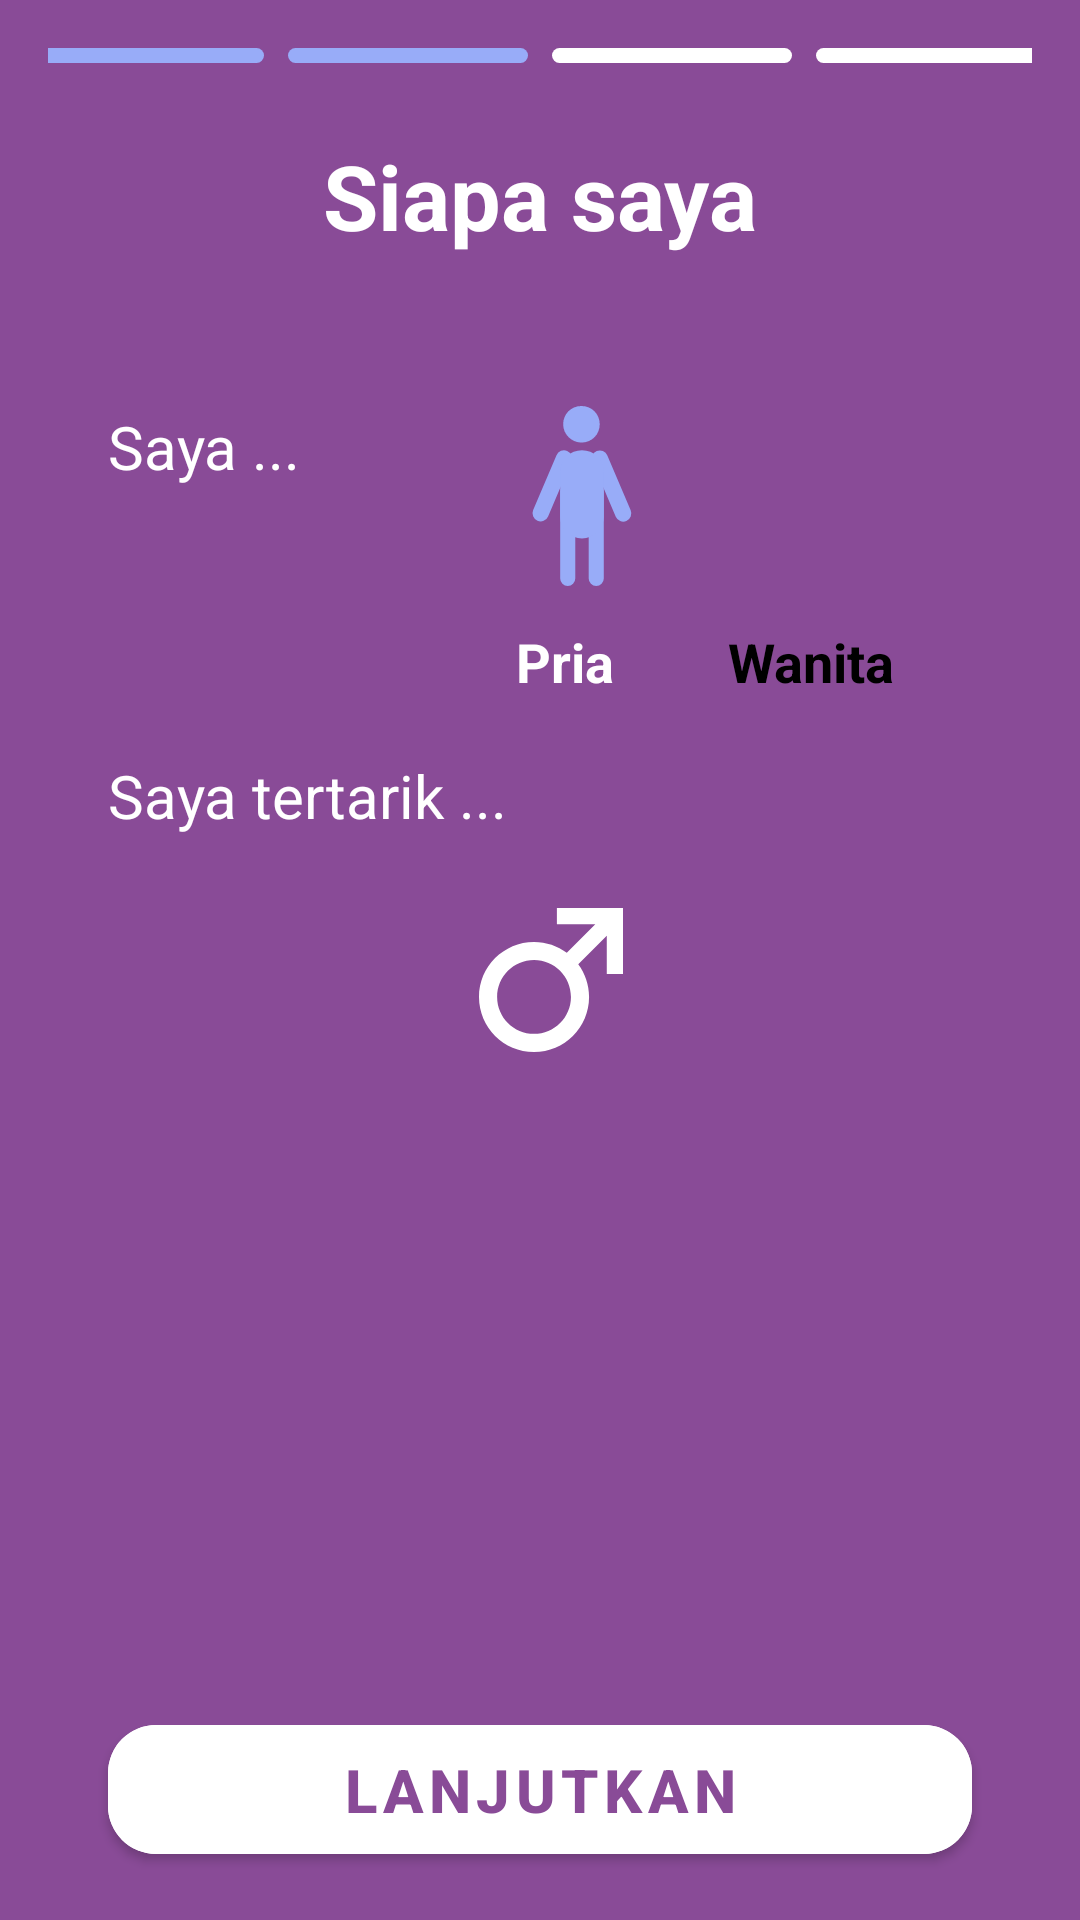

Named icons in this screenshot (1080px x 1920px) and their centers, [x,y]:
interest male: [551,980]
male: [581,496]
